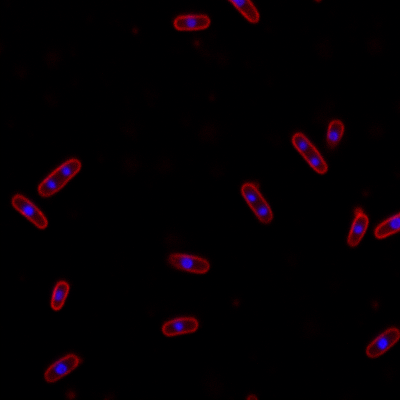CAM: (36, 158, 82, 198), (289, 133, 330, 173), (239, 180, 274, 225), (8, 193, 49, 231), (41, 353, 82, 384), (364, 325, 400, 358), (345, 212, 370, 248), (160, 316, 199, 337), (48, 278, 71, 312), (172, 13, 212, 32)
Oblique: (163, 253, 210, 275), (325, 118, 347, 150)
